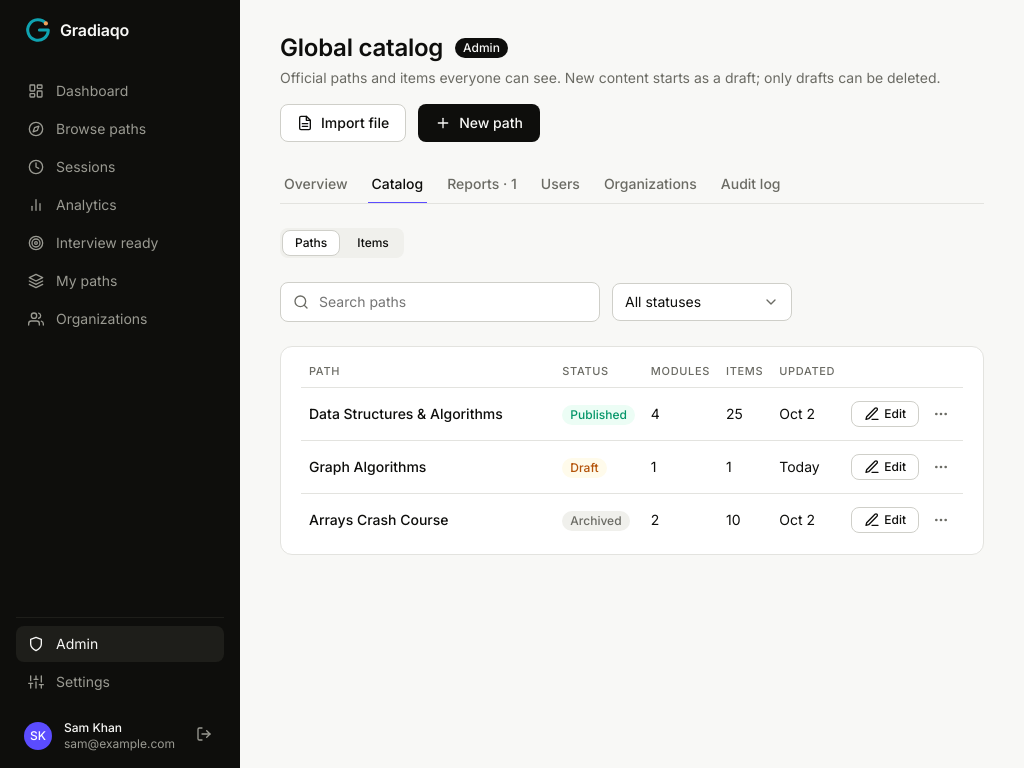
Test: The global catalog › filters the paths by title and status
The width and height of the screenshot is (1024, 768).
Expected: the element named "Paths" is shown, [280,346,984,555]
Type "algo" into the search field labelled "Search paths".
click(452, 302); type("algo")  # box [317,291,587,313]
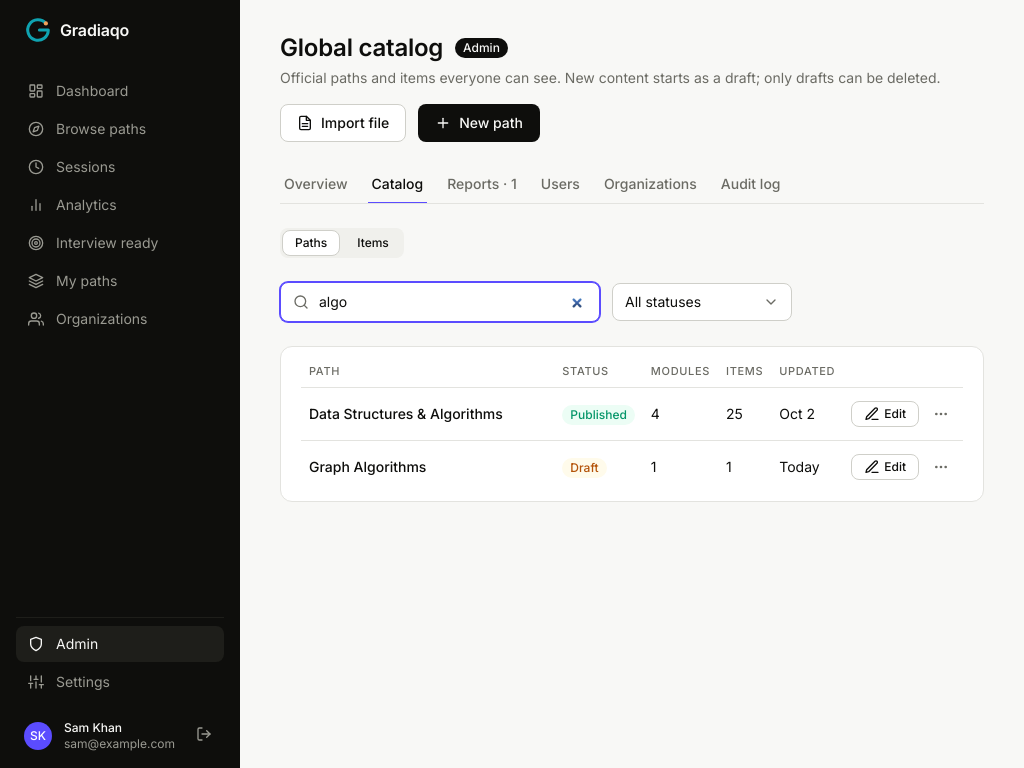
Select "Draft" in the dropdown named "Status" at [702, 302], box [612,283,792,321]
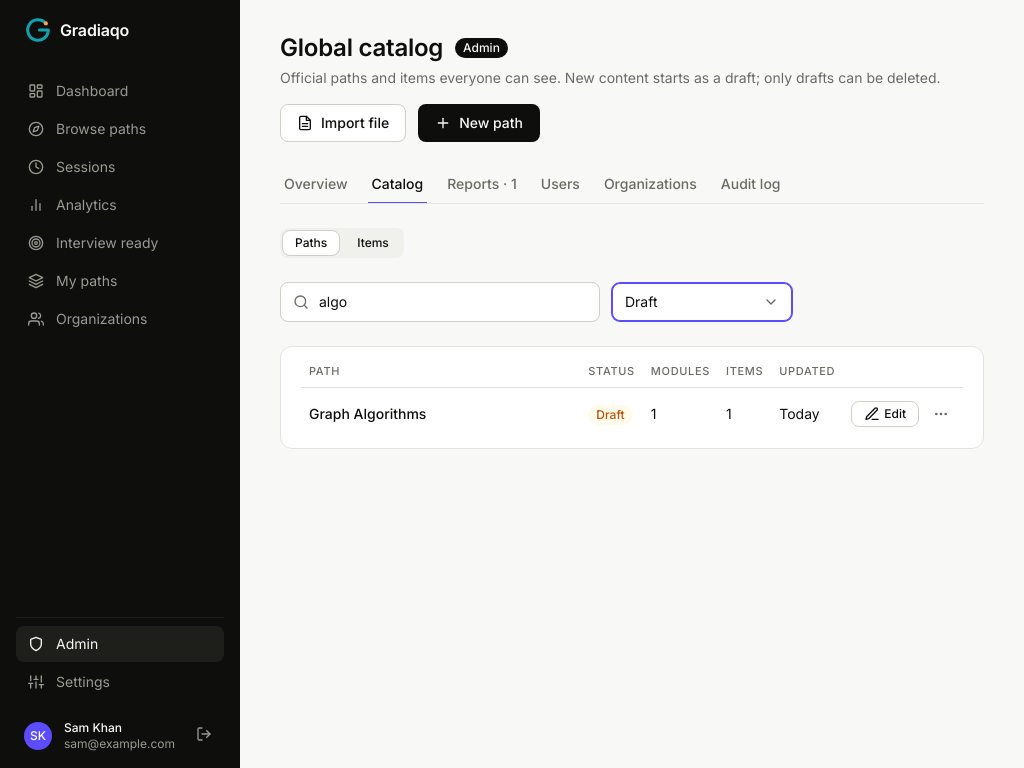
Type "zzz" into the search field named "Search paths".
click(452, 302); type("zzz")  # box [317,291,587,313]
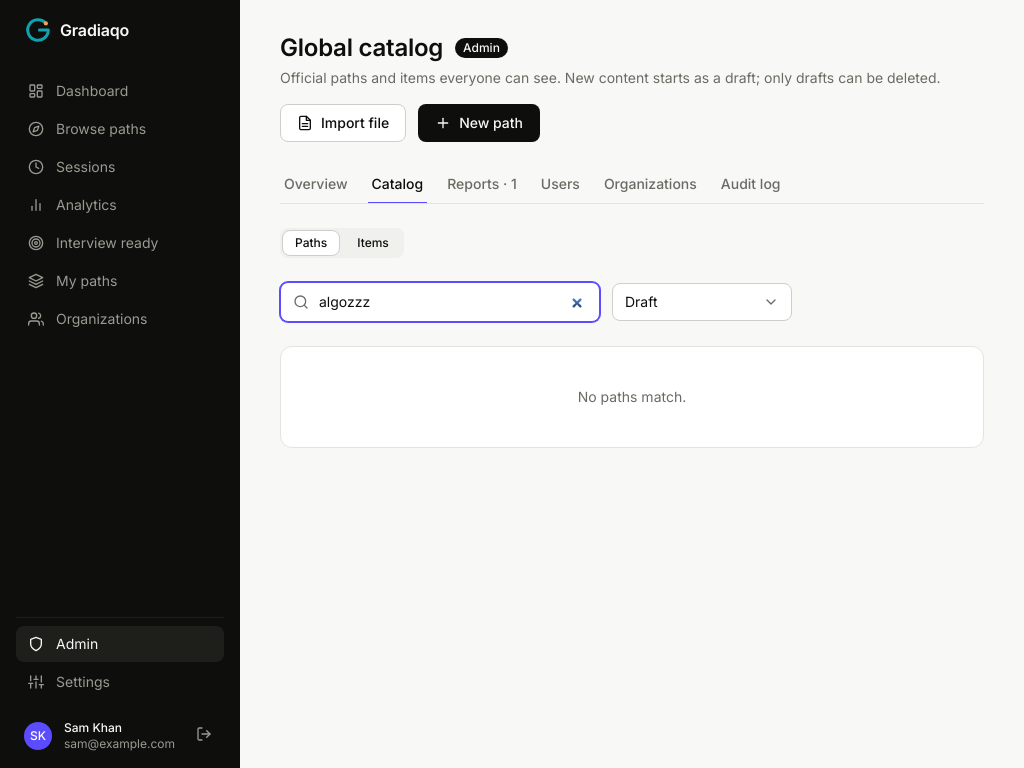
Result: the element "paths" reads "No paths match." at [578,388,686,405]
